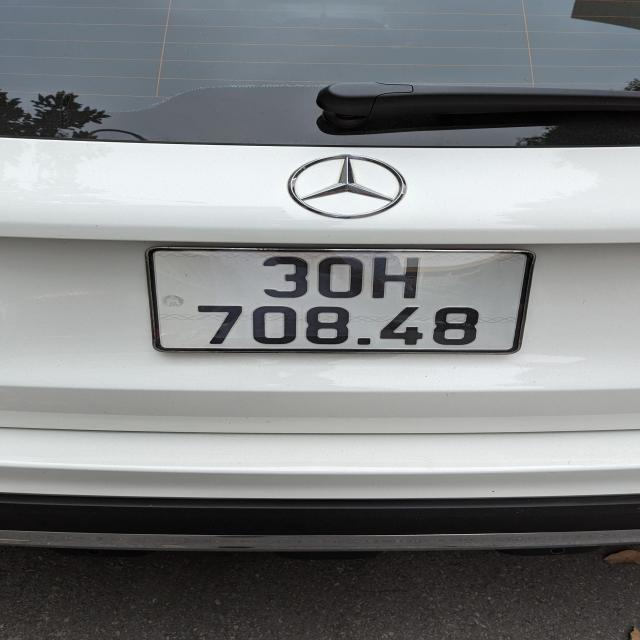License: (145, 246, 535, 354)
